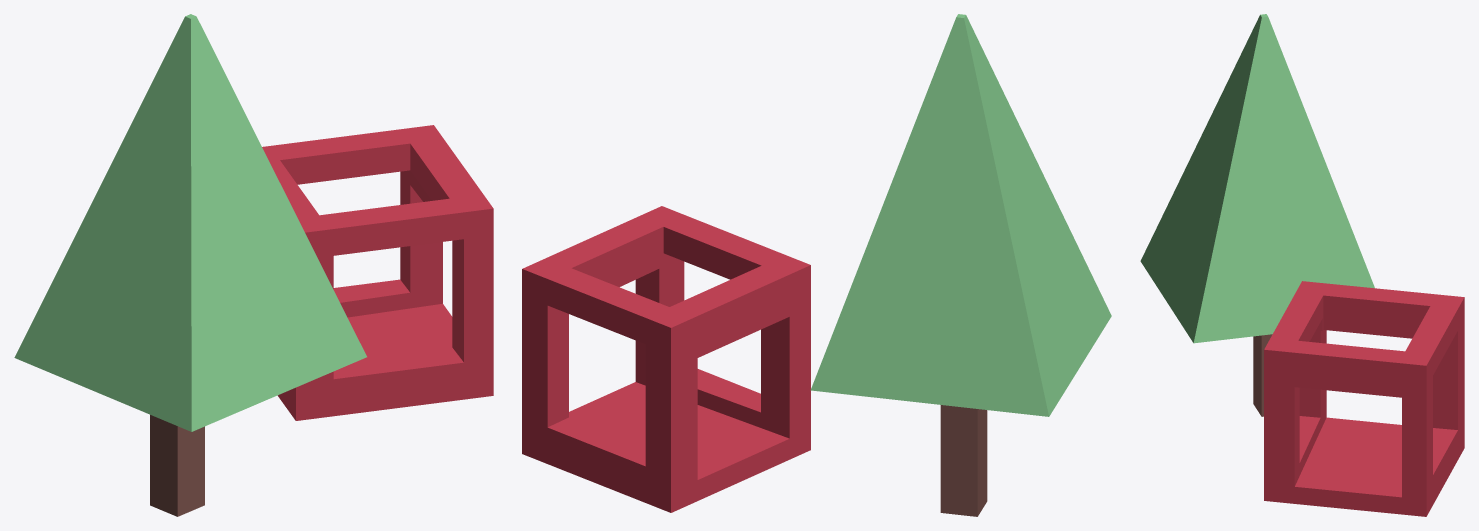
3 views of the same model, side by side, from view 1: azimuth 30°, elevation 25°; view 2: azimuth 150°, elevation 25°; view 3: azimuth 270°, elevation 25° (orthographic). The views are drawn at different scales.
Parts seen in each view (by area): view 1: Leaves, Cube_001, Trunk; view 2: Leaves, Cube_001, Trunk; view 3: Leaves, Cube_001, Trunk.
Part boxes in pixels (<box>): Leaves: <box>14,14,366,431</box>; Cube_001: <box>262,125,493,420</box>; Trunk: <box>150,415,204,516</box>; Leaves: <box>810,14,1111,416</box>; Cube_001: <box>522,206,810,512</box>; Trunk: <box>940,405,987,516</box>; Leaves: <box>1140,14,1374,343</box>; Cube_001: <box>1264,281,1464,516</box>; Trunk: <box>1253,334,1272,416</box>.
Size of what is drawn, in the model's own units: 5.32 by 3.89 by 5.24.
